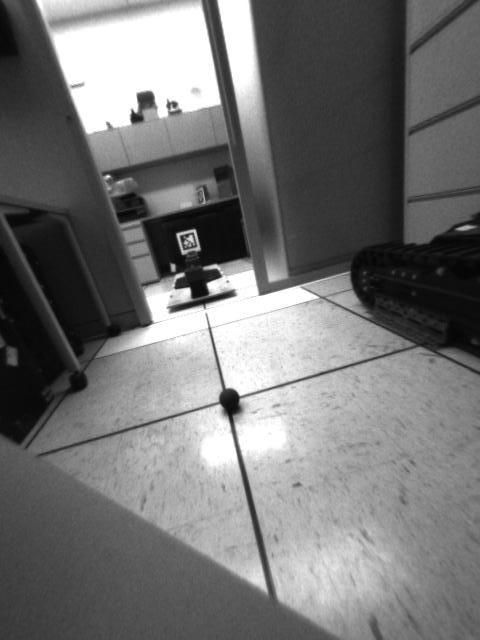dogtoy: (211, 380, 250, 419)
